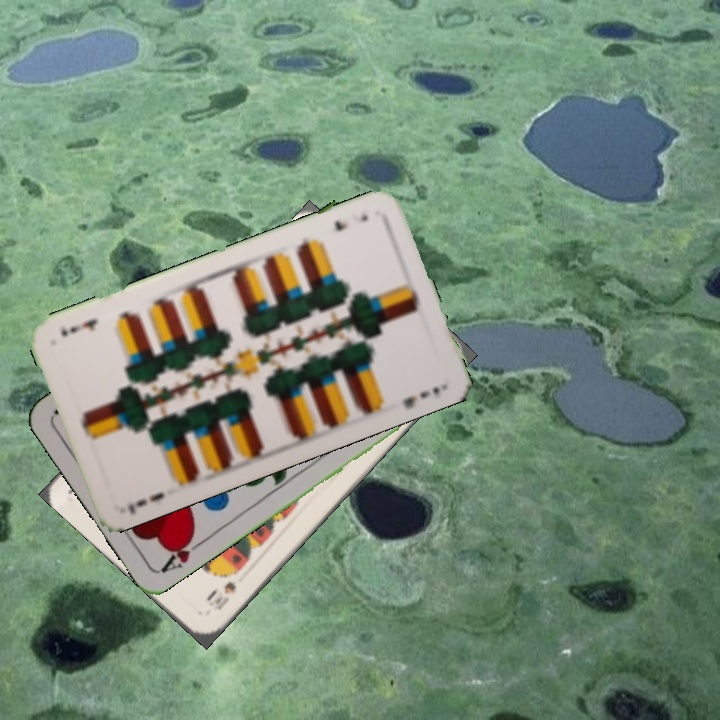E7: (124, 488, 166, 518), (330, 210, 370, 233)
HA: (157, 529, 209, 576)
S10: (204, 565, 243, 613)
